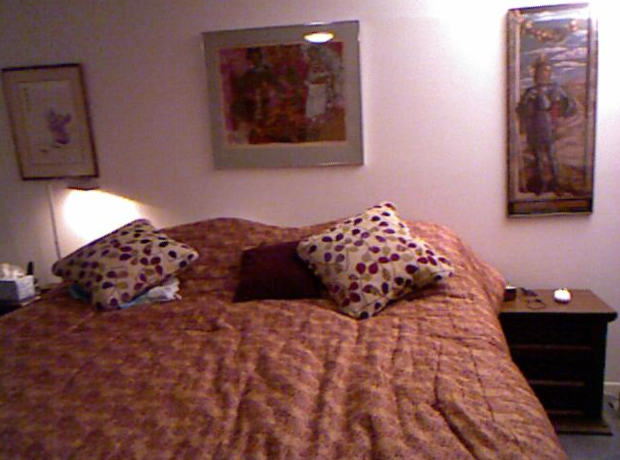cabinet: (501, 285, 618, 434)
